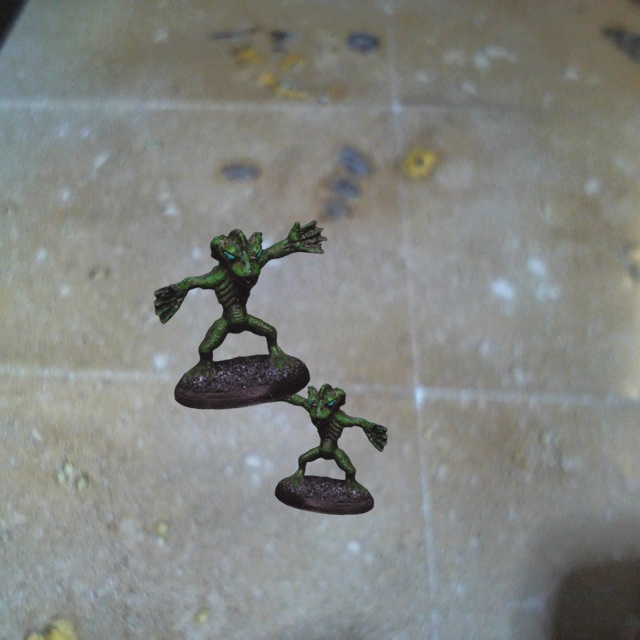pieza_juego: (154, 220, 326, 409), (260, 378, 387, 514)
